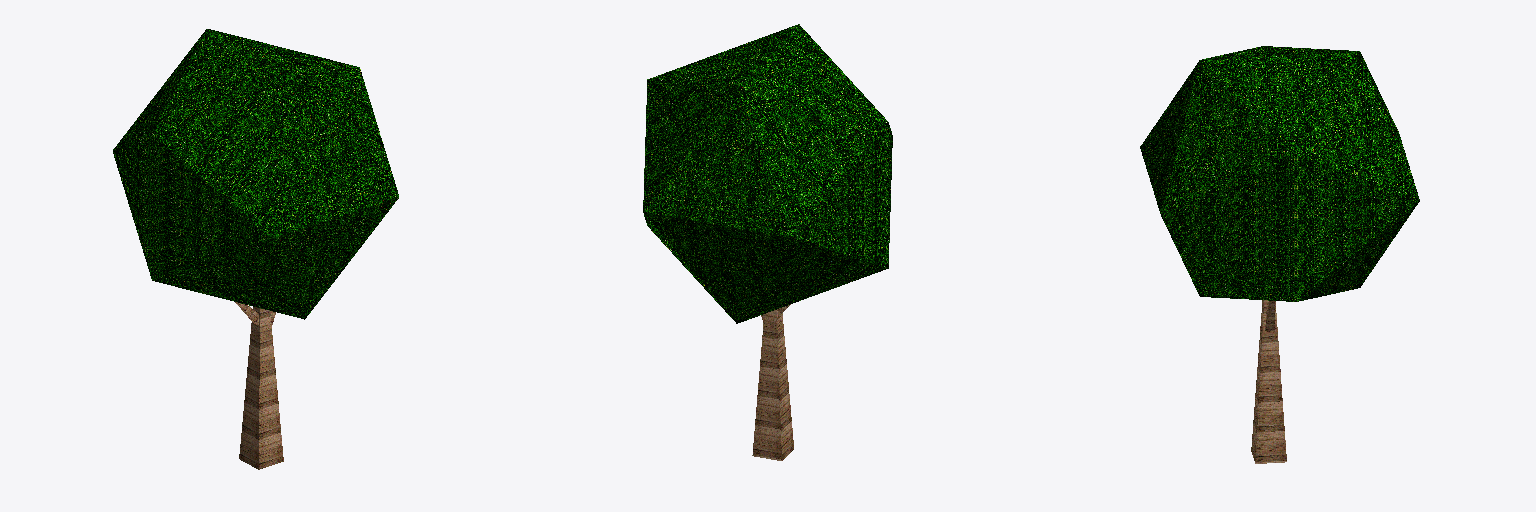
The picture shows the model from 3 angles: view 1: azimuth 30°, elevation 25°; view 2: azimuth 150°, elevation 25°; view 3: azimuth 270°, elevation 25°; orthographic projection.
Visible parts, largest first — view 1: tree; view 2: tree; view 3: tree.
Part boxes in pixels (left/top/right/bottom): tree: left=113, top=29, right=398, bottom=469; tree: left=643, top=24, right=892, bottom=460; tree: left=1140, top=46, right=1419, bottom=463.
Bounding box in the file's own units: 8.1 × 13.82 × 8.75.
2 materials, 2 textured.